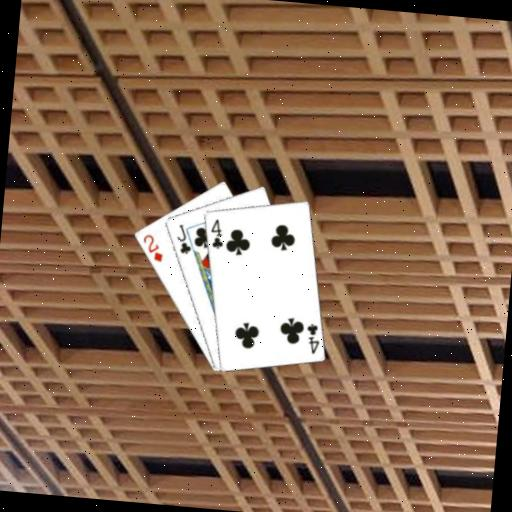2D: (138, 230, 166, 264)
4C: (301, 320, 322, 356), (206, 215, 227, 250)
JC: (172, 220, 195, 256)
